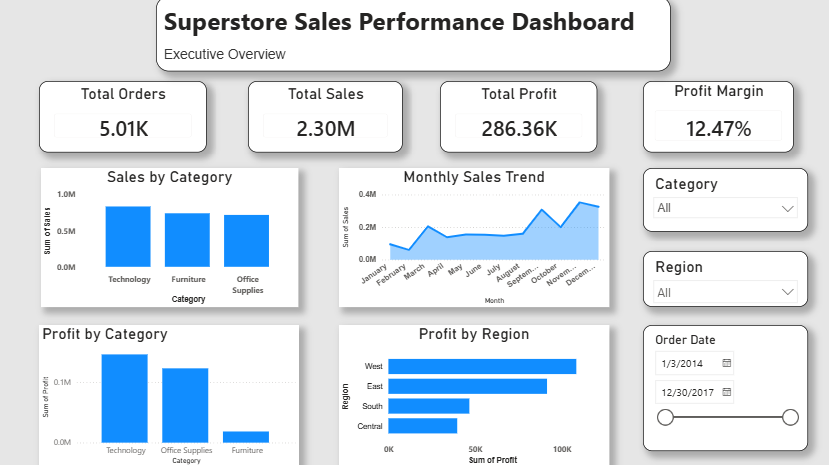

The dashboard page shown, as its layout file describes it:
{"tool":"powerbi","page":{"name":"Performance Overview","canvas":[1283,725],"ordinal":0},"visuals":[{"type":"cardVisual","title":"Total Sales","fields":{"Data":["Sample - Superstore.Total Sales"]},"box":[386,130,238,110],"z":0},{"type":"cardVisual","title":"Total Profit ","fields":{"Data":["Sample - Superstore.Total Profit"]},"box":[682,130,242,110],"z":1000},{"type":"cardVisual","title":"Total Orders","fields":{"Data":["Sample - Superstore.Total Orders"]},"box":[64,130,258,110],"z":2000},{"type":"cardVisual","title":"Profit Margin","fields":{"Data":["Sample - Superstore.Profit Margin %"]},"box":[994,130,232,110],"z":3000},{"type":"textbox","box":[244,0,792,116],"z":4000},{"type":"columnChart","title":"Sales by Category","fields":{"Category":["Sample - Superstore.Category"],"Y":["Sum(Sample - Superstore.Sales)"]},"box":[68,264,396,214],"z":5000},{"type":"areaChart","title":"Monthly Sales Trend","fields":{"Category":["Sample - Superstore.Order Date.Variation.Date Hierarchy.Month"],"Y":["Sum(Sample - Superstore.Sales)"]},"box":[526,264,416,214],"z":6000},{"type":"clusteredBarChart","title":" Profit by Region","fields":{"Category":["Sample - Superstore.Region"],"Y":["Sum(Sample - Superstore.Profit)"]},"box":[526,506,416,220],"z":7000},{"type":"slicer","fields":{"Values":["Sample - Superstore.Category"]},"box":[994,264,254,98],"z":8000},{"type":"slicer","fields":{"Values":["Sample - Superstore.Order Date"]},"box":[994,506,254,194],"z":9000},{"type":"slicer","fields":{"Values":["Sample - Superstore.Region"]},"box":[994,392,254,86],"z":10000},{"type":"clusteredColumnChart","title":"Profit by Category","fields":{"Y":["Sum(Sample - Superstore.Profit)"],"Category":["Sample - Superstore.Category"]},"box":[64,506,400,220],"z":11000}]}

Visuals, with their boxes in screenshot pixels (x1, y1, x2, y2), scaled from the page's 1283x725 canvas onto the 829x465 screenshot:
"Total Sales" cardVisual: {"left": 249, "top": 83, "right": 403, "bottom": 154}
"Total Profit " cardVisual: {"left": 441, "top": 83, "right": 597, "bottom": 154}
"Total Orders" cardVisual: {"left": 41, "top": 83, "right": 208, "bottom": 154}
"Profit Margin" cardVisual: {"left": 642, "top": 83, "right": 792, "bottom": 154}
textbox: {"left": 158, "top": 0, "right": 669, "bottom": 74}
"Sales by Category" columnChart: {"left": 44, "top": 169, "right": 300, "bottom": 307}
"Monthly Sales Trend" areaChart: {"left": 340, "top": 169, "right": 609, "bottom": 307}
" Profit by Region" clusteredBarChart: {"left": 340, "top": 325, "right": 609, "bottom": 464}
slicer - Sample - Superstore.Category: {"left": 642, "top": 169, "right": 806, "bottom": 232}
slicer - Sample - Superstore.Order Date: {"left": 642, "top": 325, "right": 806, "bottom": 449}
slicer - Sample - Superstore.Region: {"left": 642, "top": 251, "right": 806, "bottom": 307}
"Profit by Category" clusteredColumnChart: {"left": 41, "top": 325, "right": 300, "bottom": 464}
